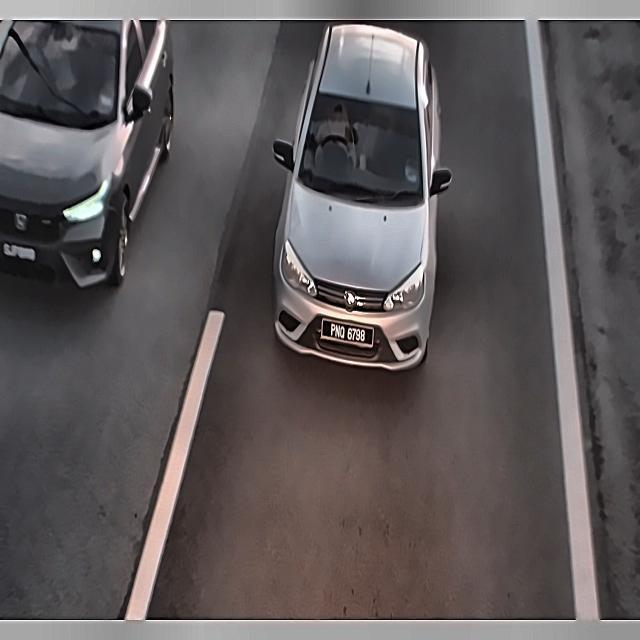car: (320, 310, 384, 355), (1, 232, 44, 273)
